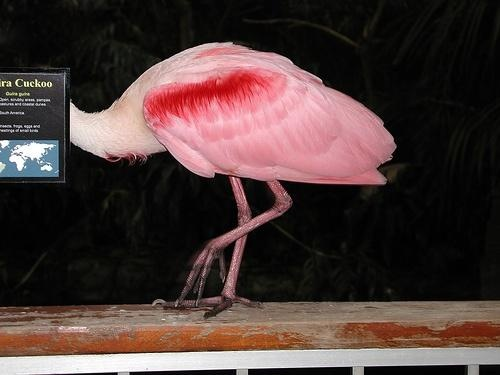bird: (70, 43, 399, 319)
